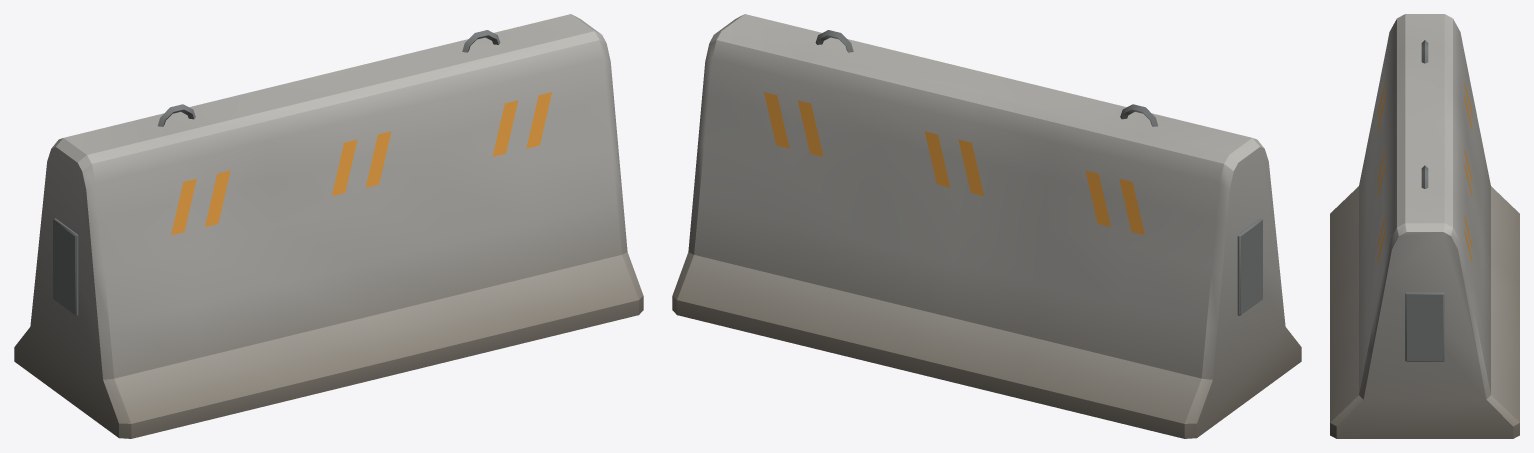
File: barricade.glb
3 views of the same model, side by side, from view 1: azimuth 30°, elevation 25°; view 2: azimuth 150°, elevation 25°; view 3: azimuth 270°, elevation 25° (orthographic). The views are drawn at different scales.
Parts seen in each view (by area): view 1: Barrier casting.001, Hazard chevrons.001, Lifting loops and pins.001; view 2: Barrier casting.001, Hazard chevrons.001, Lifting loops and pins.001; view 3: Barrier casting.001, Lifting loops and pins.001, Hazard chevrons.001.
Part boxes in pixels (<box>): Barrier casting.001: <box>14,14,643,438</box>; Hazard chevrons.001: <box>171,92,551,235</box>; Lifting loops and pins.001: <box>53,30,500,315</box>; Barrier casting.001: <box>672,14,1301,438</box>; Hazard chevrons.001: <box>764,92,1144,235</box>; Lifting loops and pins.001: <box>815,30,1262,315</box>; Barrier casting.001: <box>1330,14,1519,438</box>; Lifting loops and pins.001: <box>1405,40,1444,361</box>; Hazard chevrons.001: <box>1377,82,1472,263</box>.
Bounding box in the file's own units: 3.13 × 1.51 × 1.15.
